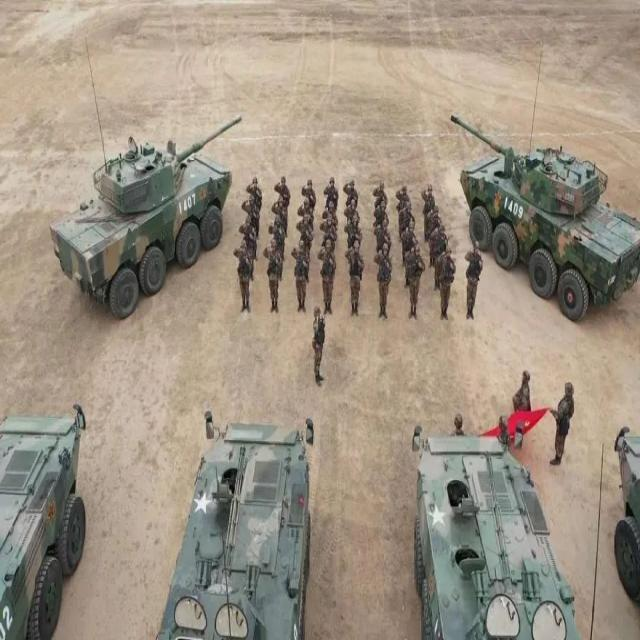Tanks: (455, 115, 640, 322), (154, 408, 312, 640), (414, 430, 584, 640), (49, 132, 236, 320), (1, 403, 88, 640)
